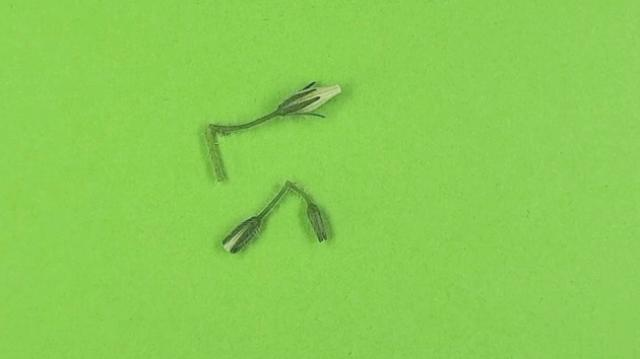Flower Bud: (277, 81, 341, 116), (222, 217, 262, 254), (305, 202, 329, 242)
